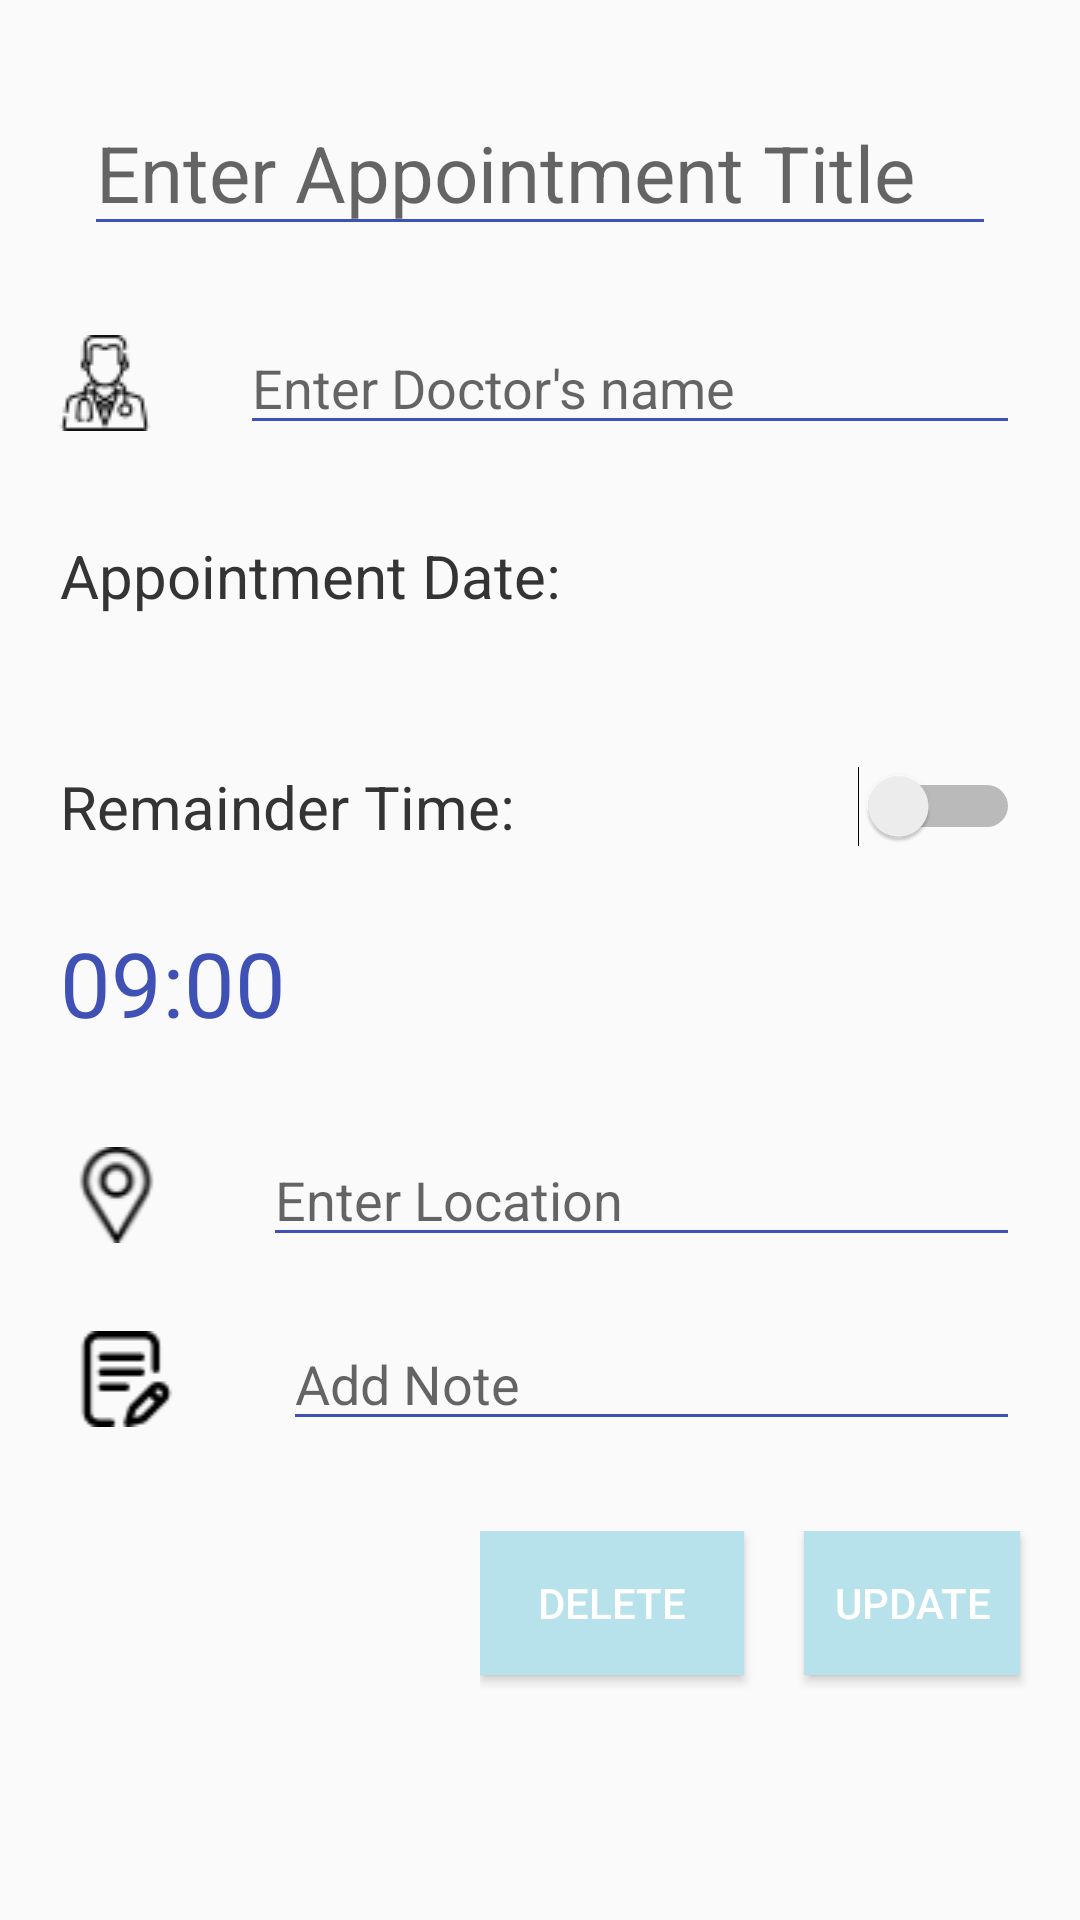

Point at icon controls on the screen. Image size 1080×1920, points as (x=x, y=y).
notes: (x=126, y=1379)
